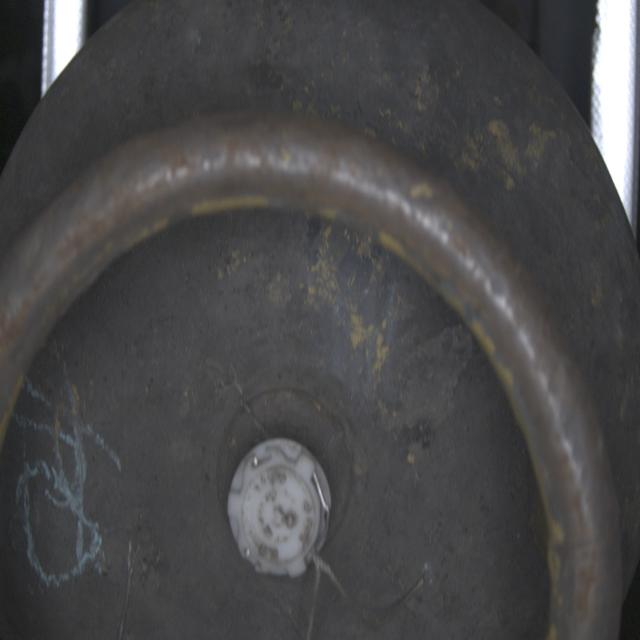Cap: (228, 433, 332, 583)
